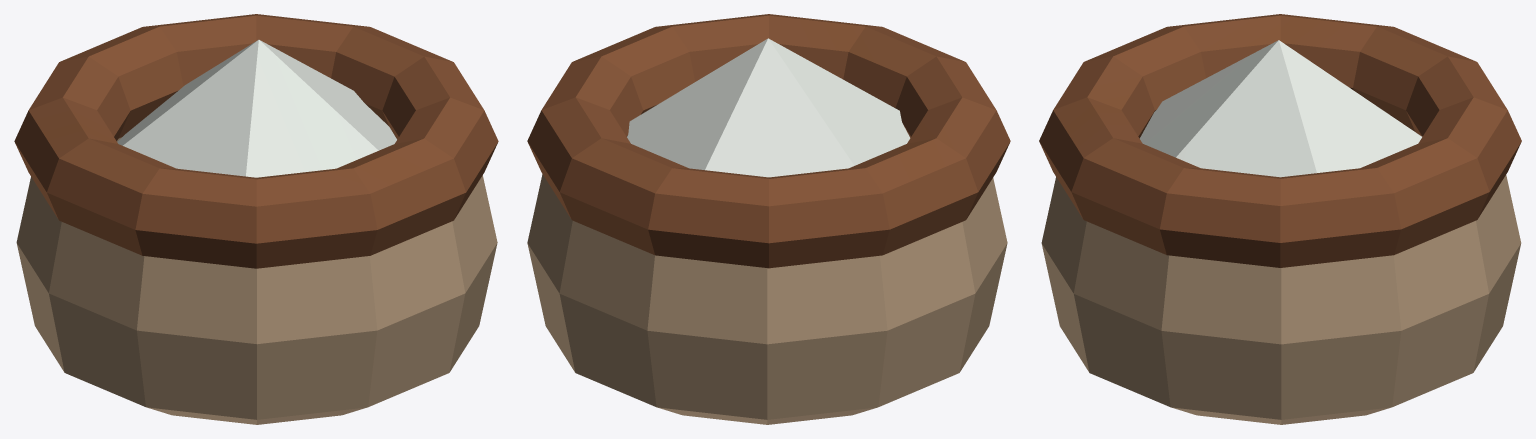
File: salt.fbx
3 views of the same model, side by side, from view 1: azimuth 30°, elevation 25°; view 2: azimuth 150°, elevation 25°; view 3: azimuth 270°, elevation 25° (orthographic).
Visible parts, largest first — view 1: Torus, Sphere, Cone; view 2: Sphere, Torus, Cone; view 3: Torus, Sphere, Cone.
Part boxes in pixels (x1,y1,x2,y2): Torus: (14,14,498,268); Sphere: (16,137,497,424); Cone: (117,39,396,177); Sphere: (527,174,1007,424); Torus: (527,14,1010,268); Cone: (627,38,910,177); Torus: (1039,14,1521,267); Sphere: (1041,175,1521,424); Cone: (1139,40,1421,177).
Bounding box in the file's own units: 56.4 × 41.58 × 56.4.
3 materials, 3 textured.
